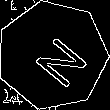N_NW: (20, 24, 85, 87)
